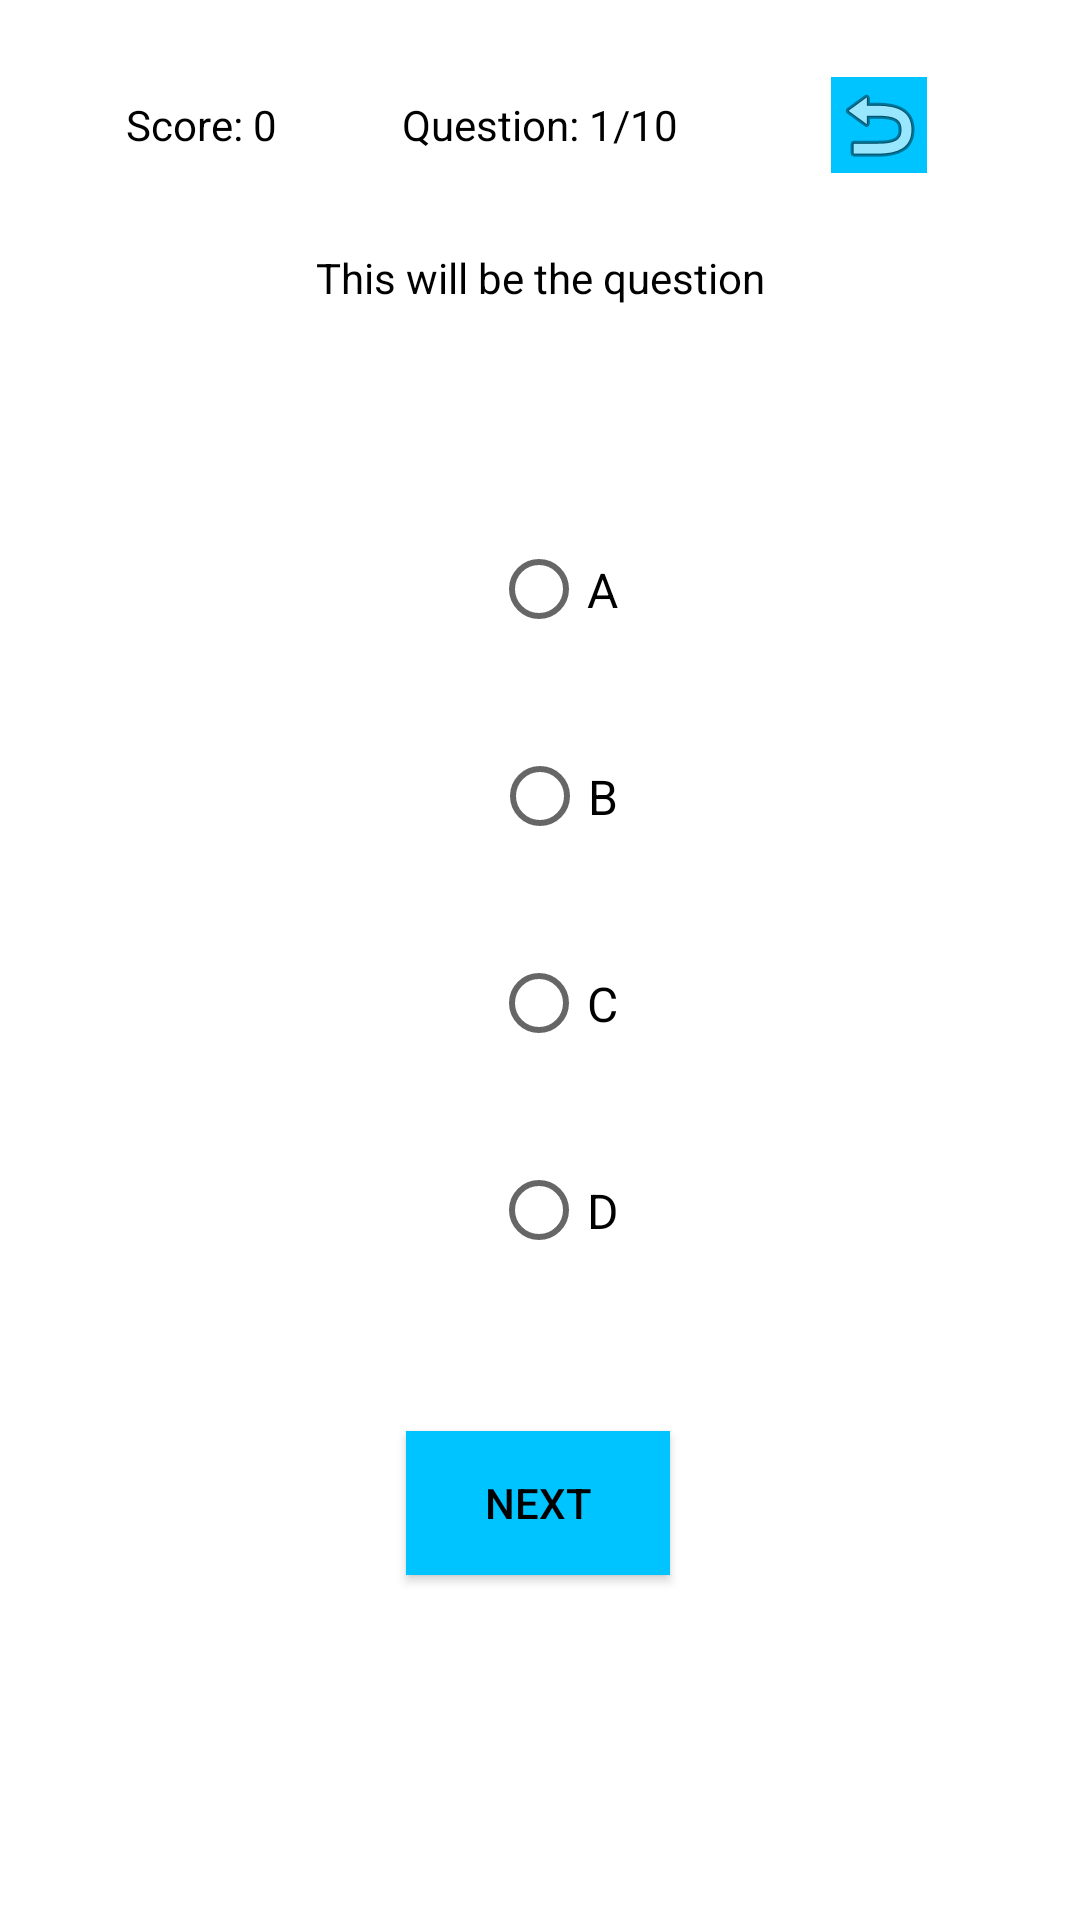

Where icons sit on this 1080w x 1920h app screen, as (x1, y1, x2, y2):
revert: (831, 77, 927, 173)
